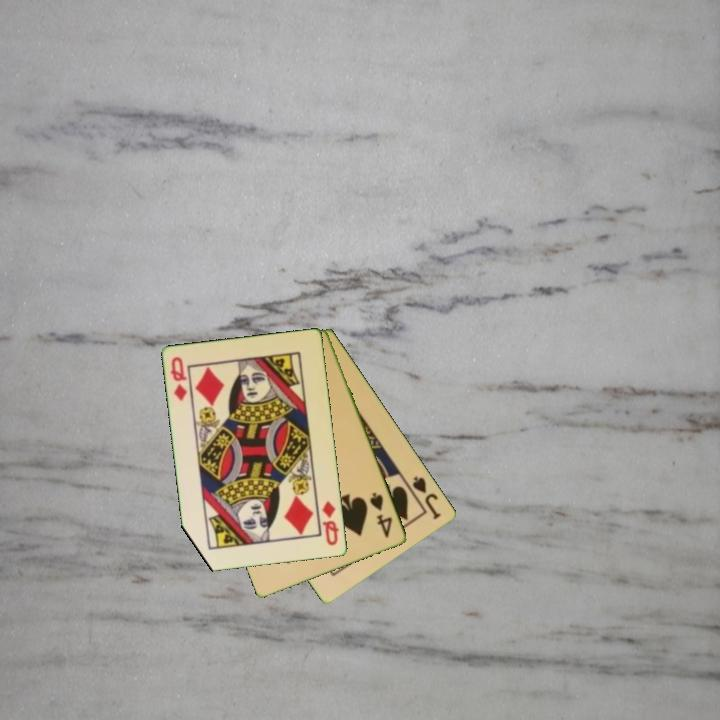4s: (366, 489, 395, 541)
Js: (409, 472, 444, 523)
Qd: (319, 498, 342, 549), (167, 354, 190, 404)
